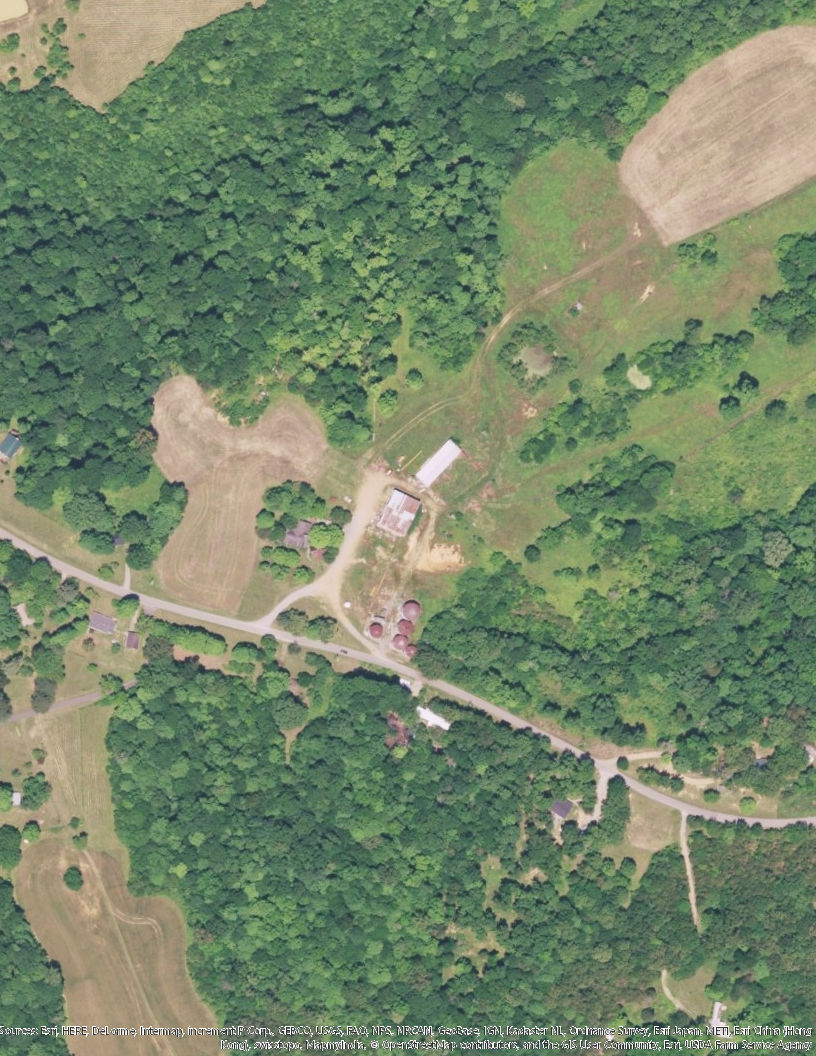cafo: (413, 435, 467, 486), (375, 486, 424, 540)
